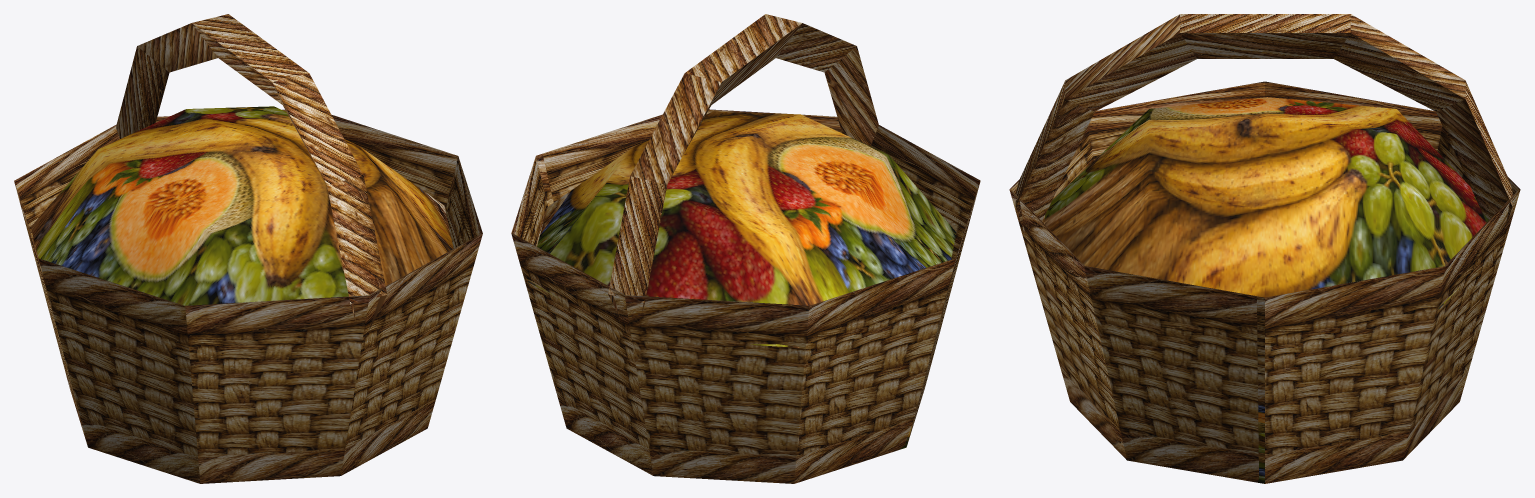
The model's file is mm9_deco_basketfruit.glb.
3 renders of one model, left to right at view 1: azimuth 30°, elevation 25°; view 2: azimuth 150°, elevation 25°; view 3: azimuth 270°, elevation 25°, orthographic. The views are drawn at different scales.
Visible parts, largest first — view 1: Basketfruit; view 2: Basketfruit; view 3: Basketfruit.
Boxes of the visible parts, box(x1,y1,x2,y2) form: Basketfruit: box(14, 14, 482, 483); Basketfruit: box(511, 14, 980, 483); Basketfruit: box(1009, 14, 1520, 483).
Bounding box in the file's own units: 0.7355 × 0.6023 × 0.7352.
Materials: 2 (2 with a texture image).
